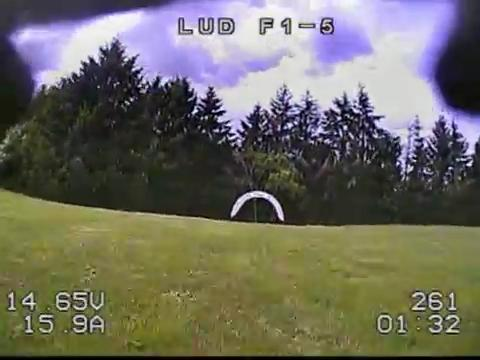gate: (230, 190, 284, 224)
